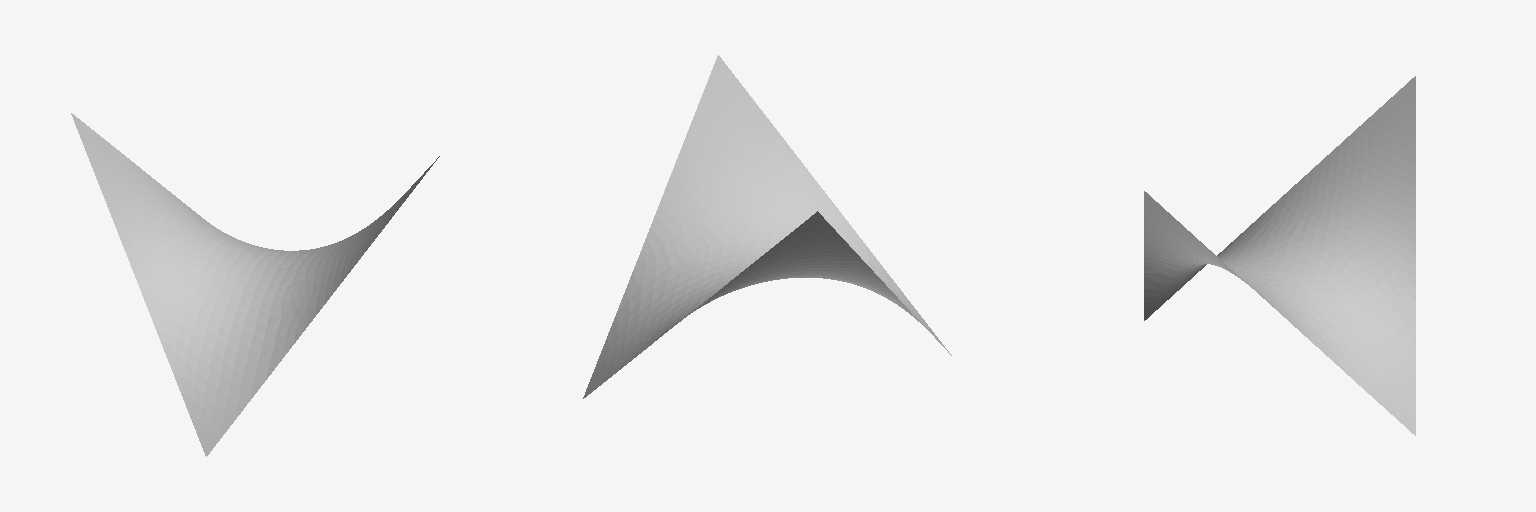
The model's file is saddle2.obj.
The picture shows the model from 3 angles: view 1: azimuth 30°, elevation 25°; view 2: azimuth 150°, elevation 25°; view 3: azimuth 270°, elevation 25°; orthographic projection.
Parts seen in each view (by area): view 1: Plane01; view 2: Plane01; view 3: Plane01.
Boxes of the visible parts, box(x1,y1,x2,y2) form: Plane01: box(71, 113, 439, 456); Plane01: box(583, 55, 951, 398); Plane01: box(1144, 76, 1415, 435).
Bounding box in the file's own units: 20 × 20 × 20.